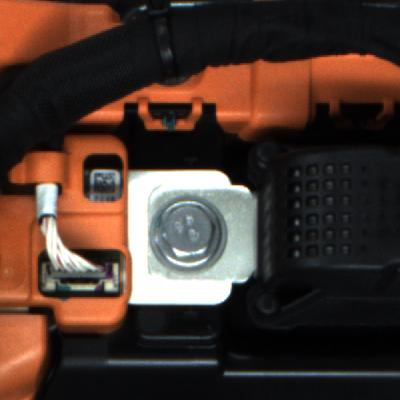nut_b: (141, 193, 231, 277)
